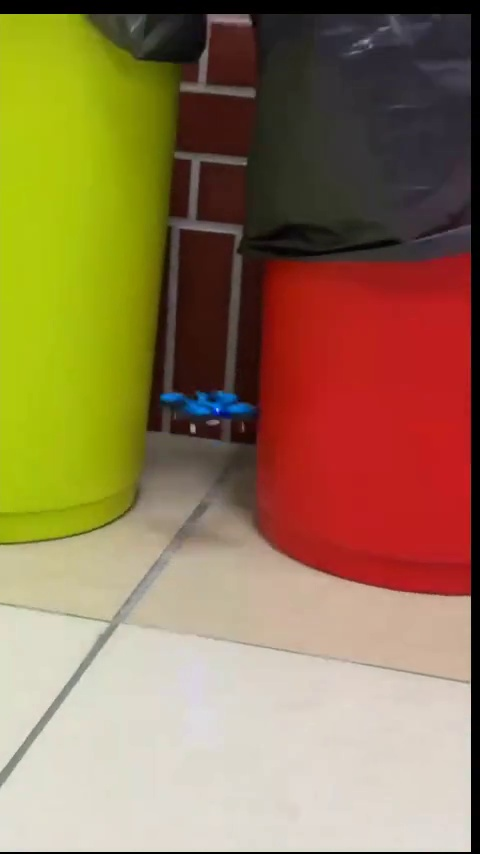drone: (160, 388, 259, 435)
